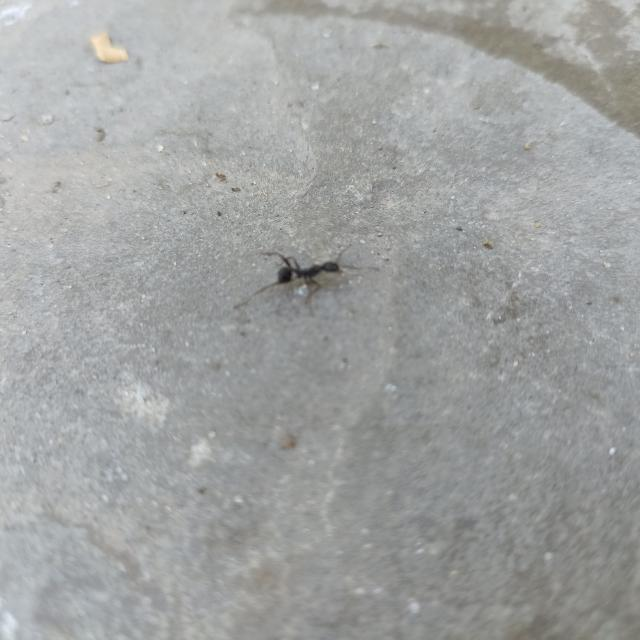Apheanogaster: (260, 242, 356, 304)
